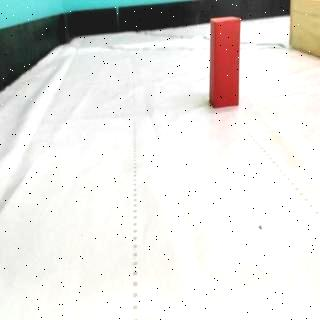redbox: (210, 17, 240, 110)
